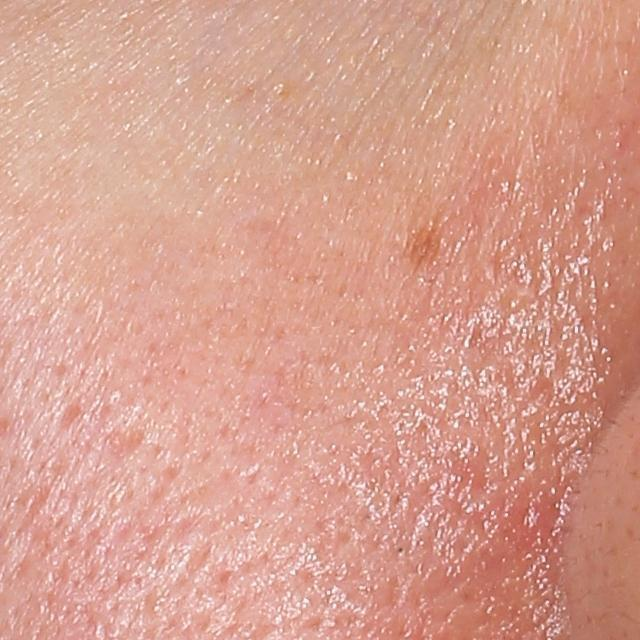atrophic_scar: (104, 424, 150, 461), (57, 398, 82, 431)
melasma: (400, 216, 441, 269)
